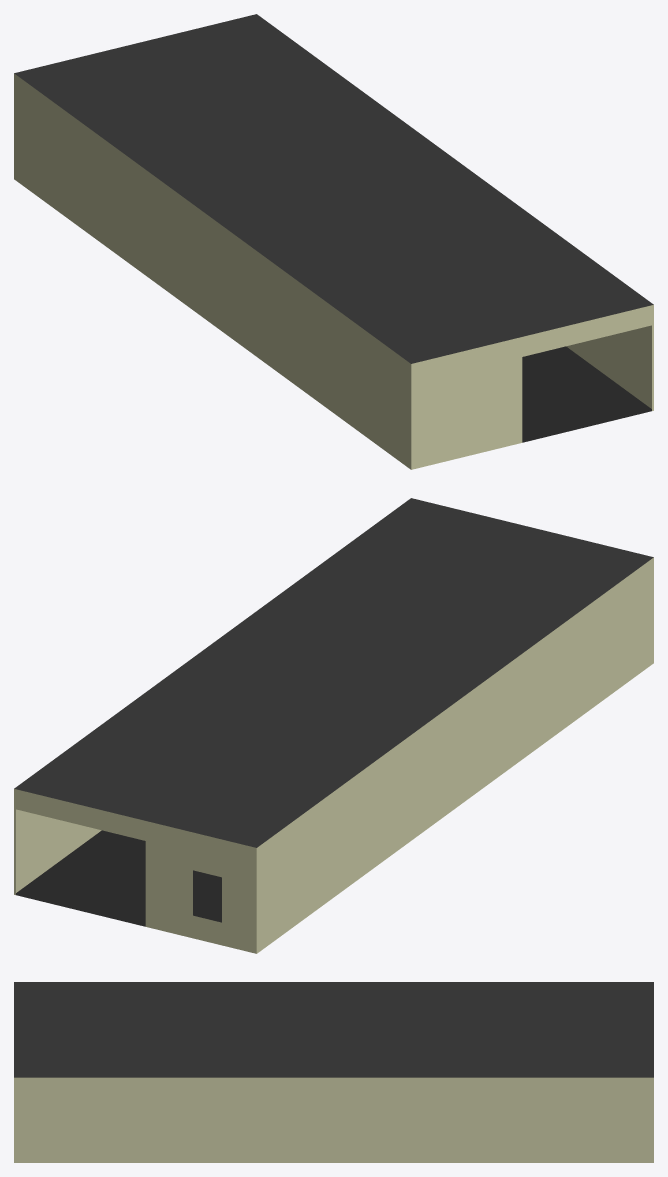
Rendered from EstacionBox2.fbx.
3 views of the same model, one above another, from view 1: azimuth 30°, elevation 25°; view 2: azimuth 150°, elevation 25°; view 3: azimuth 270°, elevation 25° (orthographic). The views are drawn at different scales.
Visible parts, largest first — view 1: Cube.061; view 2: Cube.061; view 3: Cube.061.
Boxes of the visible parts, x1,y1,x2,y2 form: Cube.061: (14, 14, 653, 469); Cube.061: (14, 498, 653, 953); Cube.061: (14, 982, 653, 1162).
Size of the model in its own units: 3367 by 1404 by 9540.
